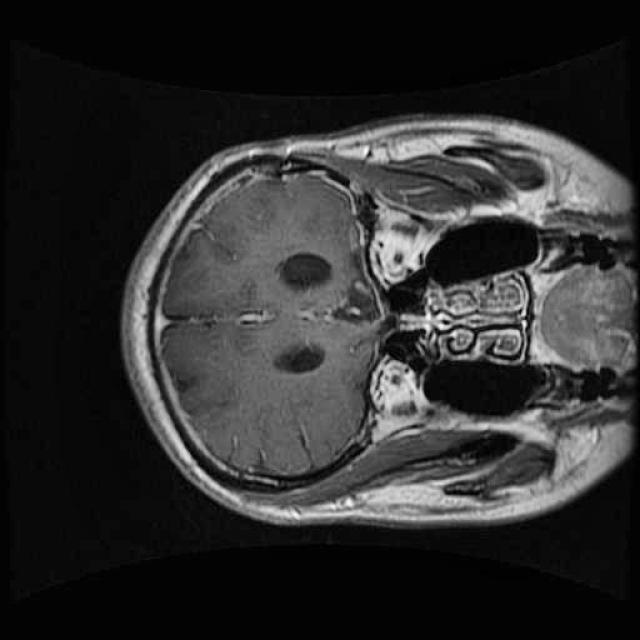Non-Tumor: (314, 245, 396, 349)
